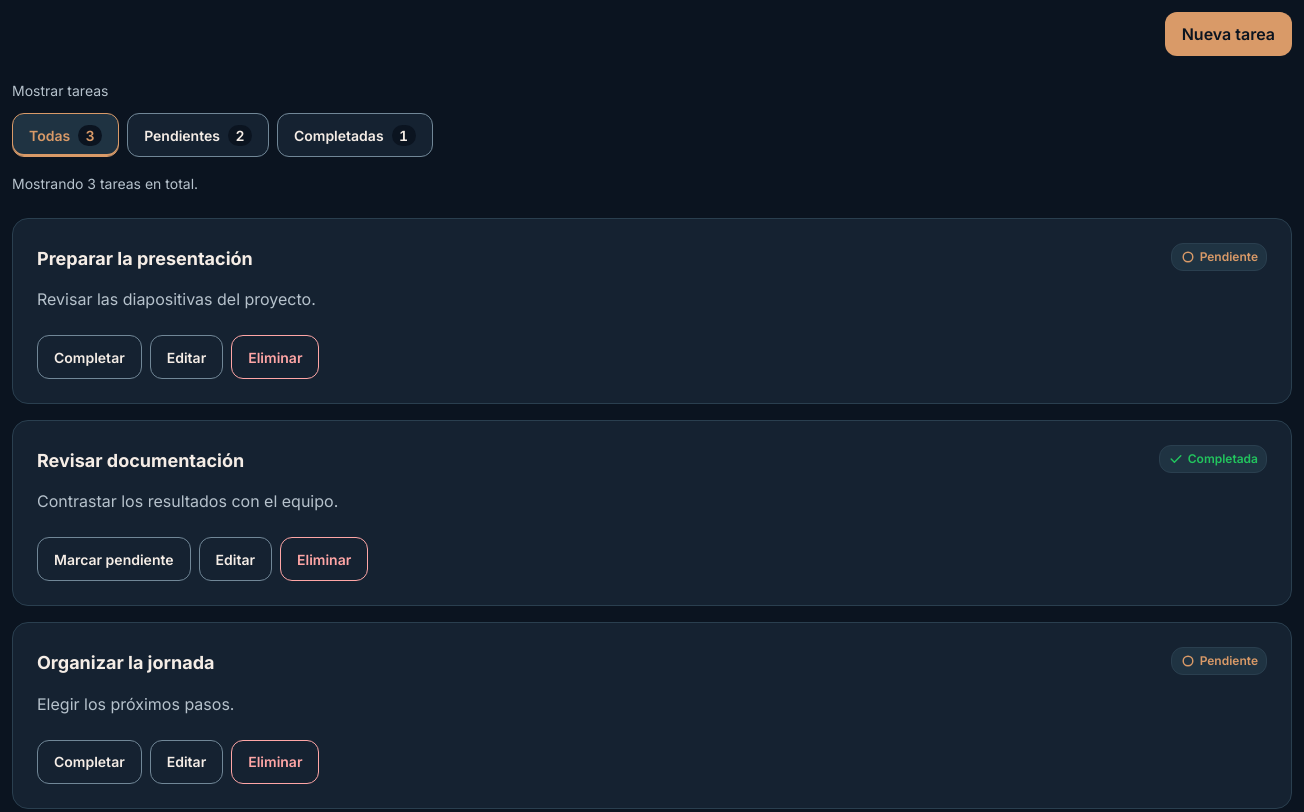
Scenario: Mis tareas: visualización sin escrituras › filtra localmente con conteos globales, sin abrir otras consultas ni escribir
Click the button with aria-label "Pendientes: 2 tareas".
click(198, 135)  # box [127, 113, 269, 157]
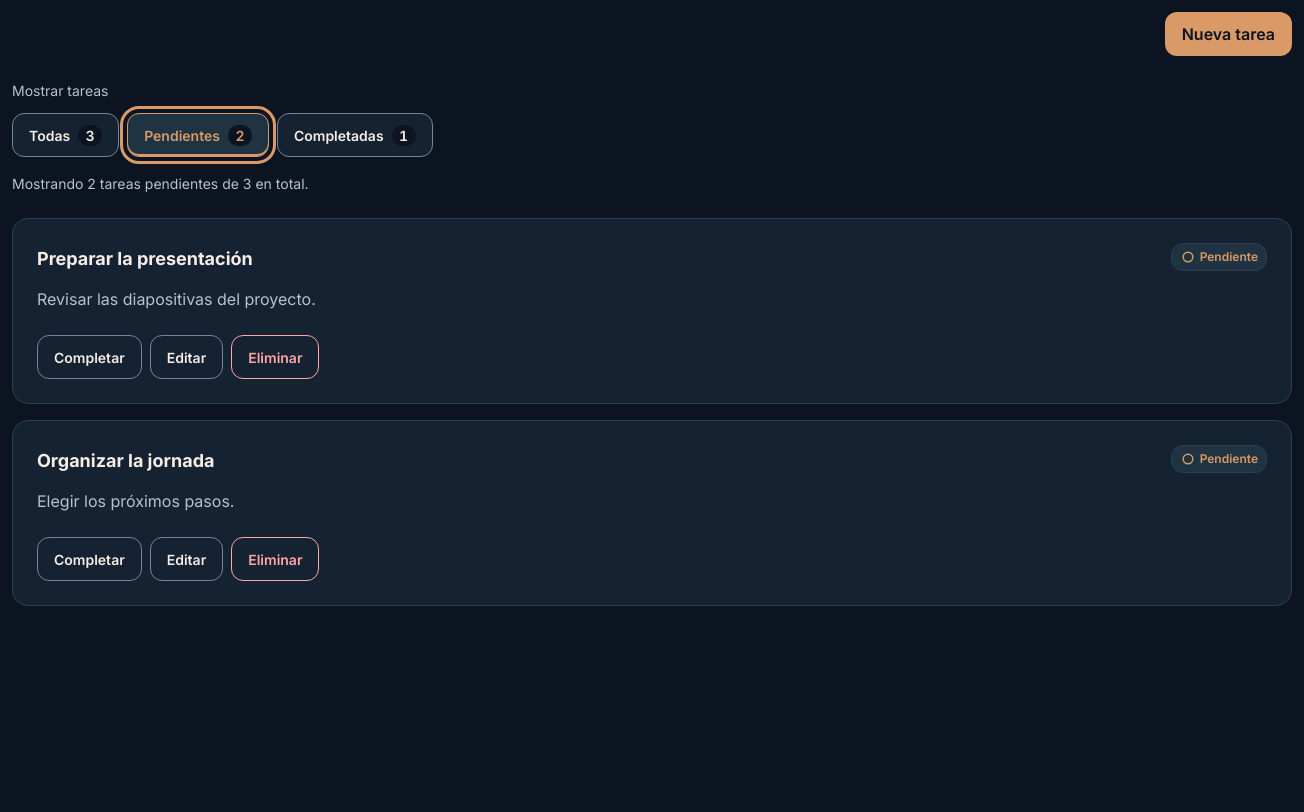
Expected: the button with aria-label "Todas: 3 tareas" is shown, [12, 113, 119, 157]
Expected: the number of list items is 2, [12, 218, 1292, 404]; [12, 420, 1292, 606]
Expected: the heading "Revisar documentación" is gone
Click the button with aria-label "Completadas: 1 tarea".
click(355, 135)  # box [277, 113, 432, 157]
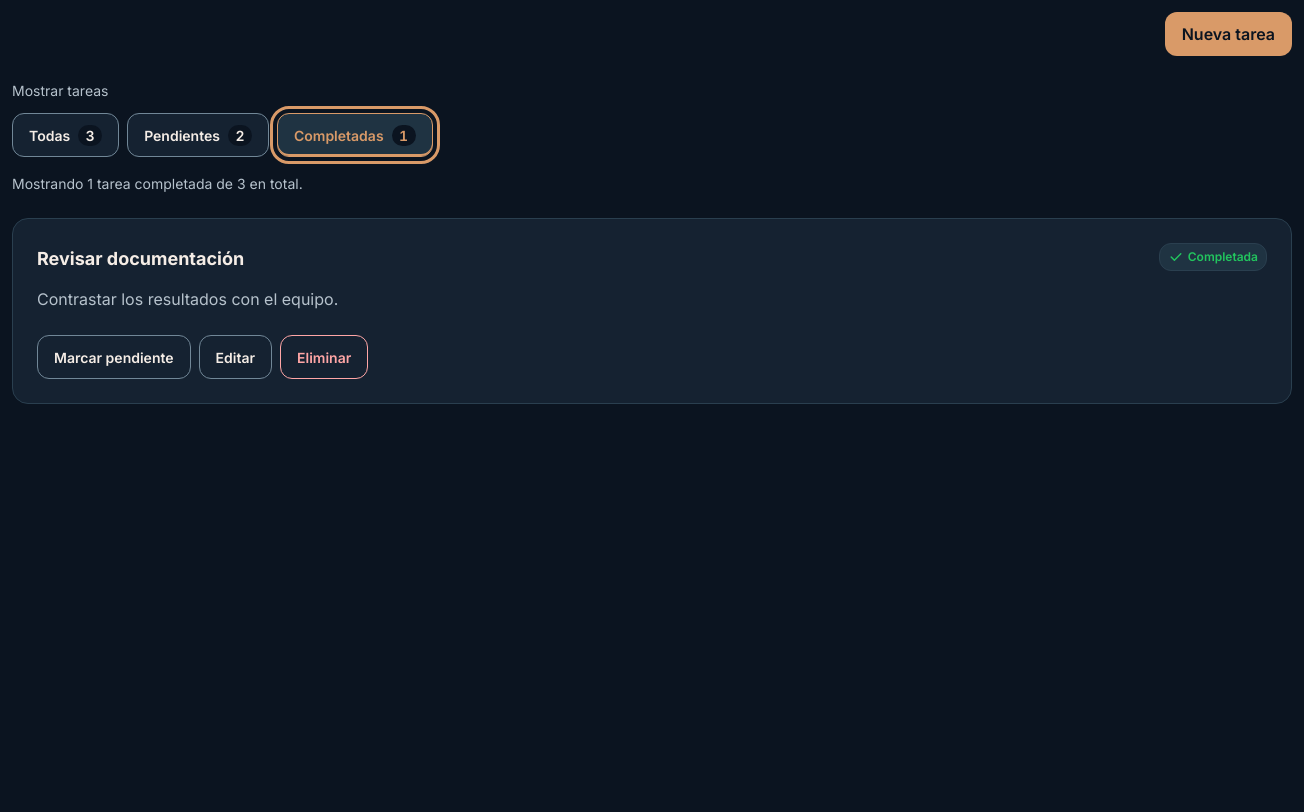
Expected: the number of list items is 1, [12, 218, 1292, 404]
Expected: the heading "Revisar documentación" is shown, [37, 246, 244, 271]
Expected: the message reads "Mostrando 1 tarea completada de 3 en total.", [12, 175, 303, 192]
Click the button with aria-label "Todas: 3 tareas".
click(66, 135)  # box [12, 113, 119, 157]
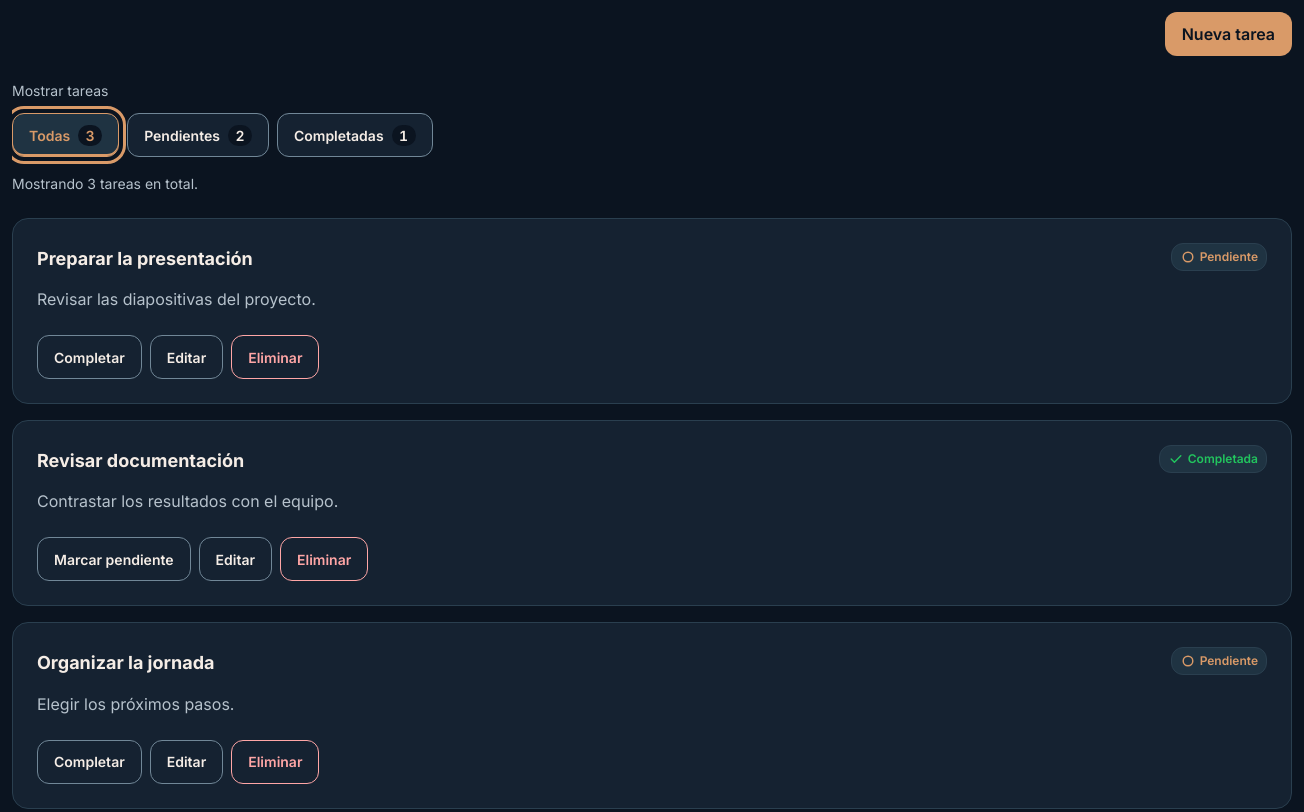
Expected: the number of list items is 3, [12, 218, 1292, 404]; [12, 420, 1292, 606]; [12, 622, 1292, 809]
